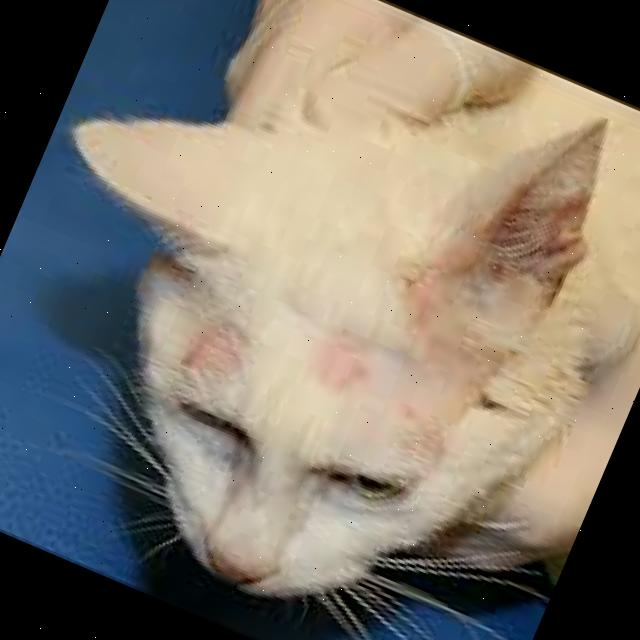cat-hairloss: (392, 334, 479, 431), (312, 334, 374, 406)
cat-ringworm: (182, 316, 248, 386), (396, 268, 448, 326)
